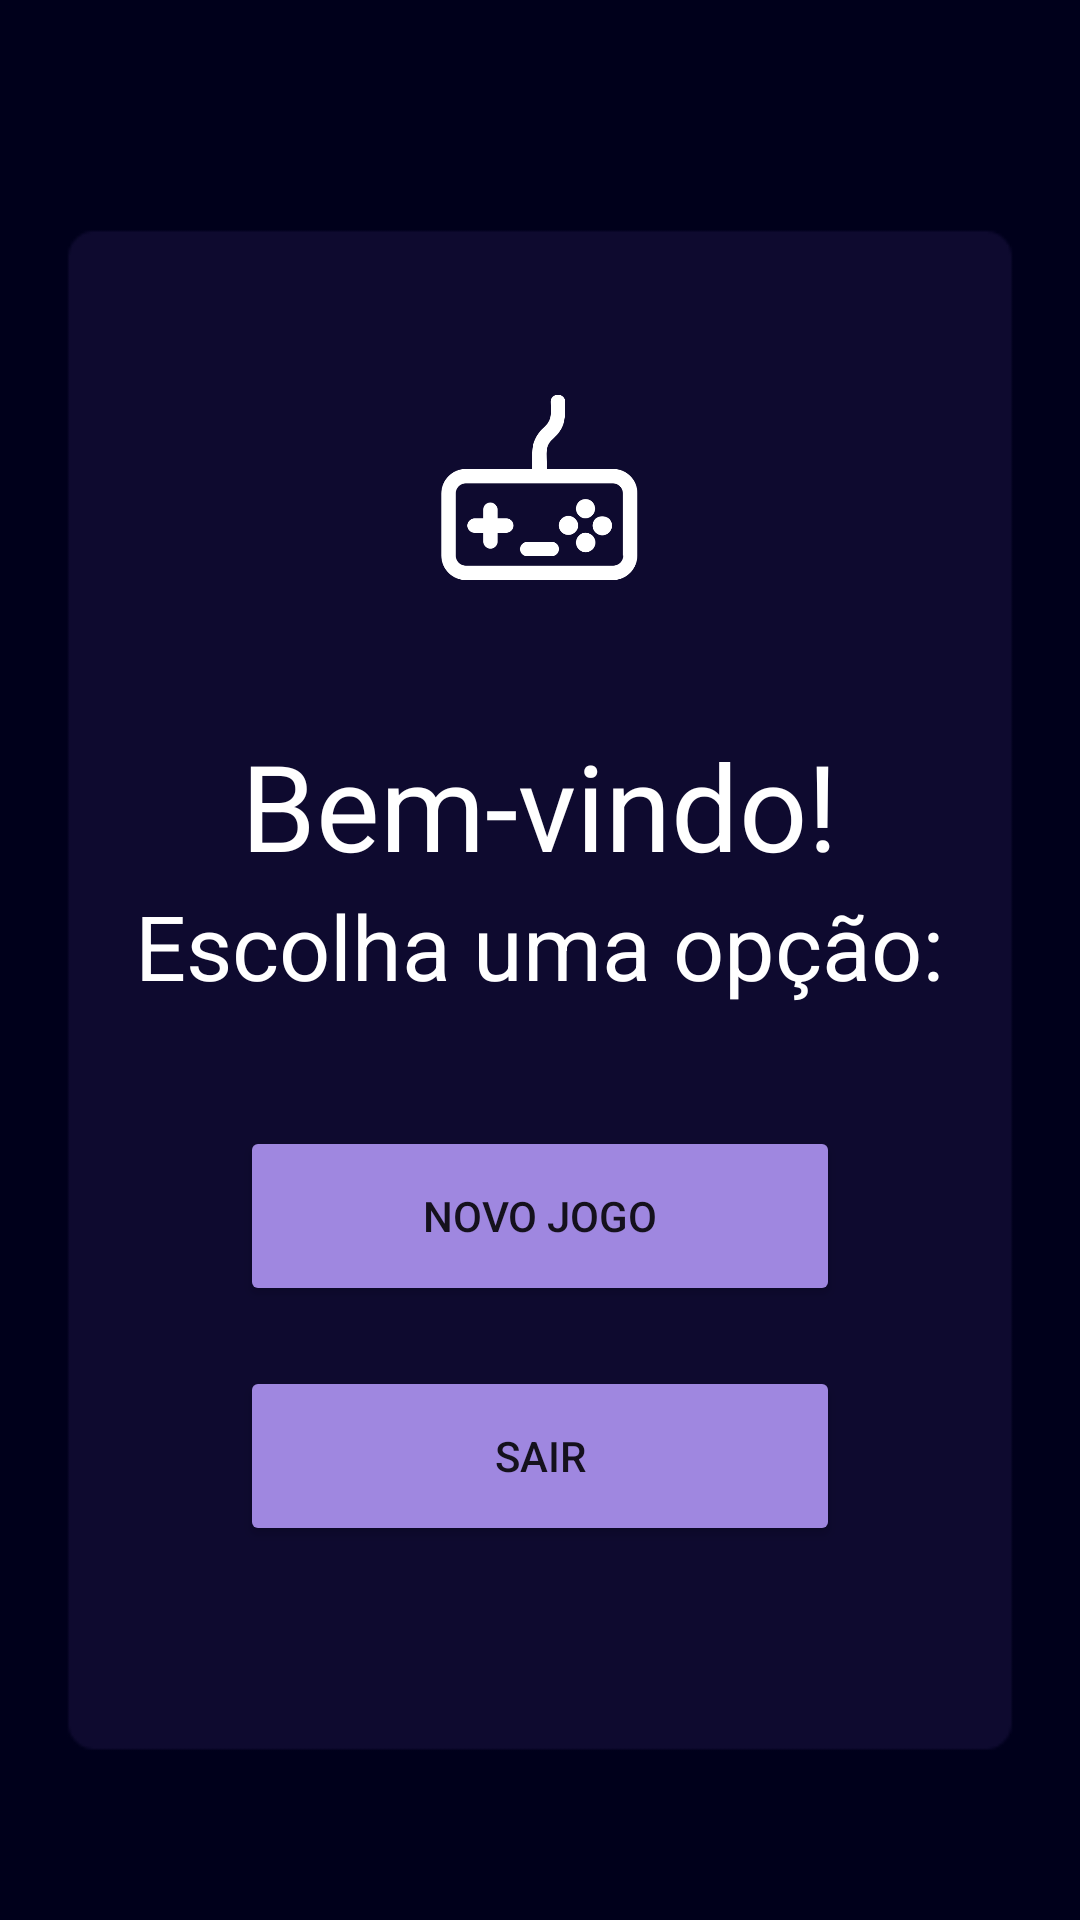

Point at icon controls on the screen. Image size 1080 × 1920, points as (x=x, y=y).
gamepad: (x=539, y=487)
